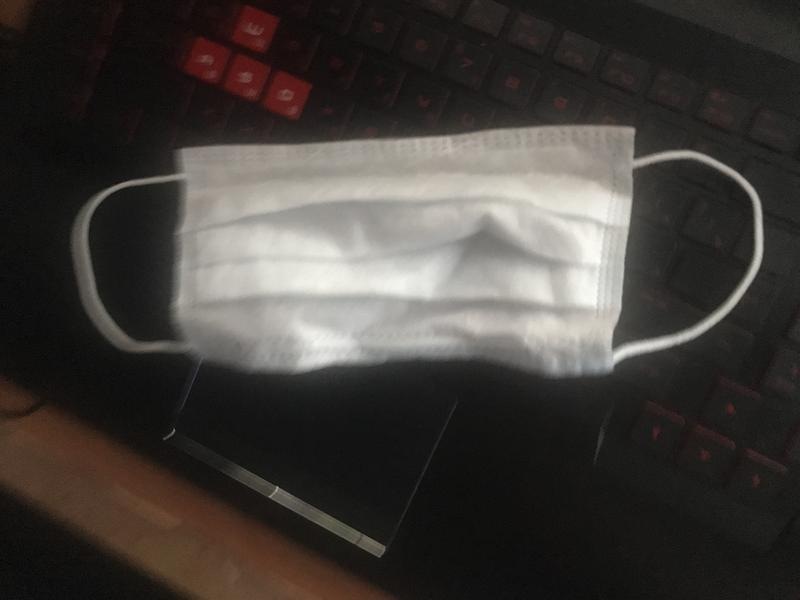medical_mask: (72, 125, 766, 375)
